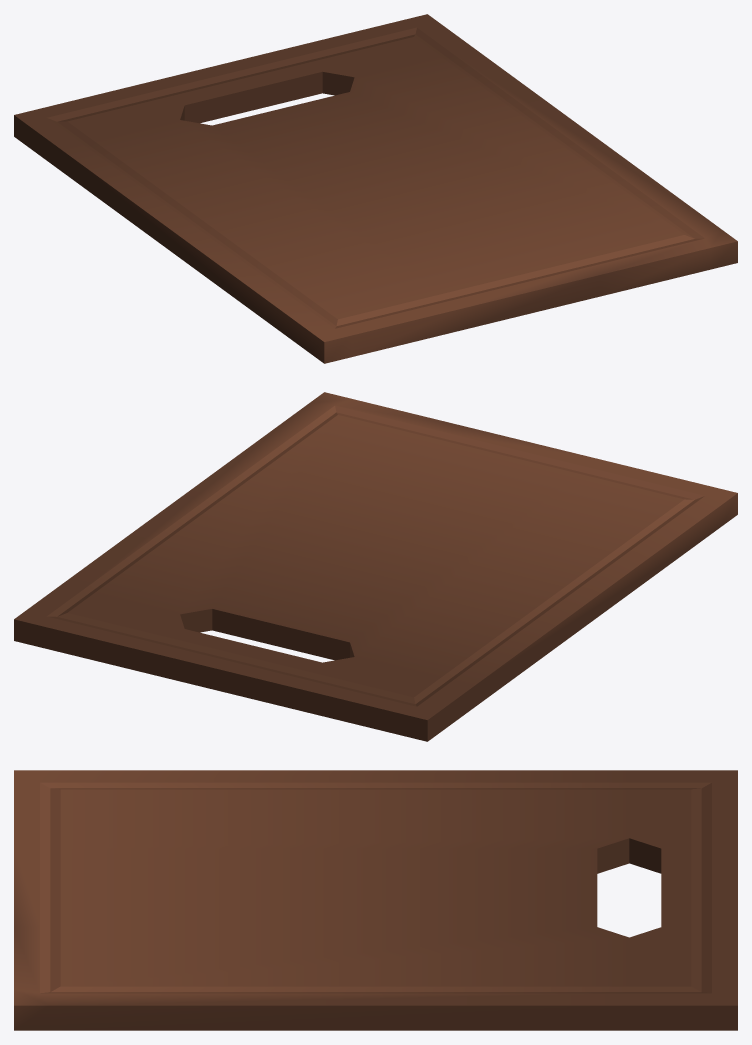
The model's file is CuttingBoard.fbx.
3 views of the same model, one above another, from view 1: azimuth 30°, elevation 25°; view 2: azimuth 150°, elevation 25°; view 3: azimuth 270°, elevation 25° (orthographic). The views are drawn at different scales.
Parts seen in each view (by area): view 1: Plane; view 2: Plane; view 3: Plane.
Part boxes in pixels (<box>): Plane: <box>14,14,737,363</box>; Plane: <box>14,392,737,741</box>; Plane: <box>14,770,737,1030</box>.
Bounding box in the file's own units: 200 × 10 × 260.
